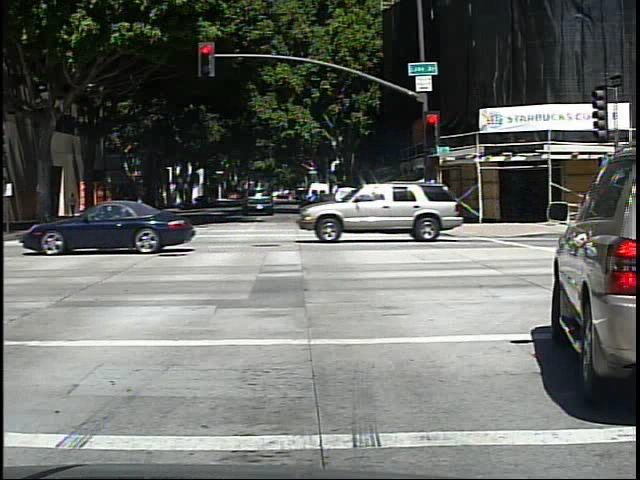person: (67, 188, 81, 220)
